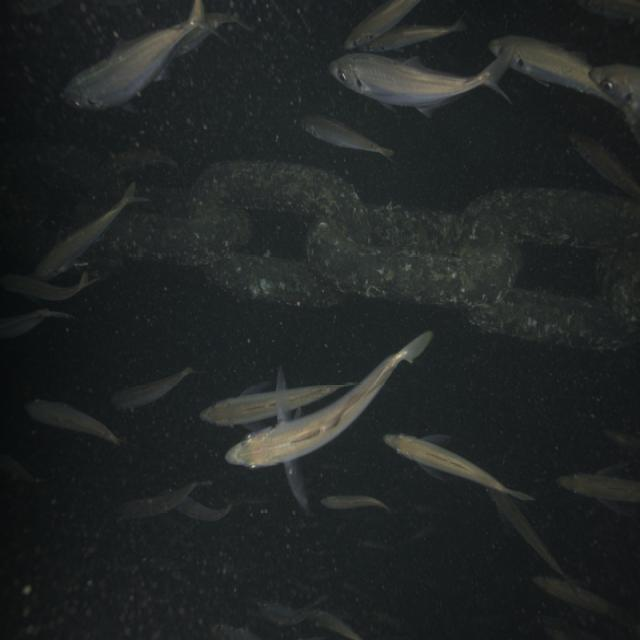ChainLink: (306, 222, 519, 307), (192, 162, 370, 244), (455, 190, 640, 250), (469, 289, 625, 346), (204, 253, 342, 306), (121, 210, 250, 265), (368, 203, 457, 253), (598, 250, 640, 324)
